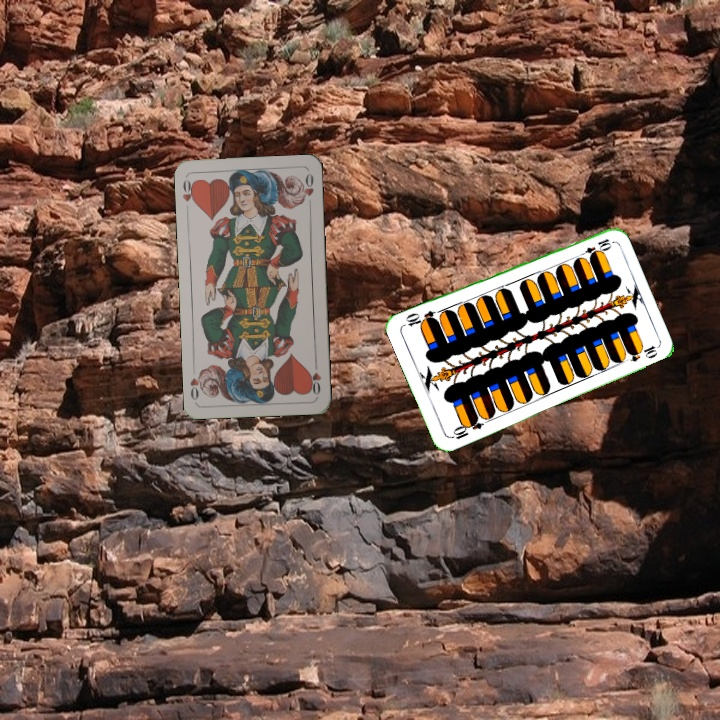E10: (446, 414, 485, 442), (575, 235, 614, 261)
HO: (179, 174, 198, 215), (306, 357, 323, 397)
